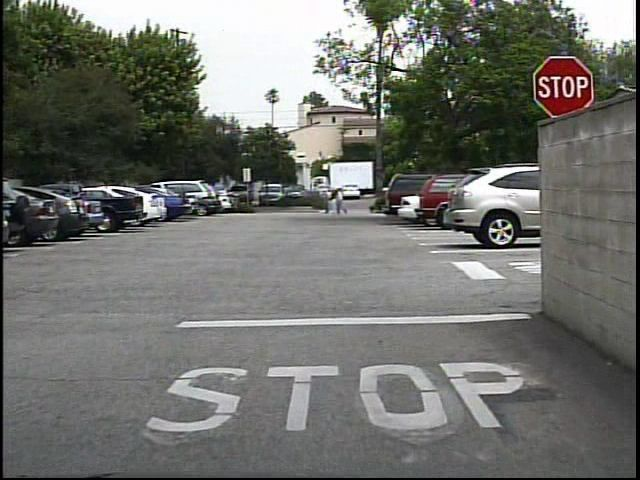person: (335, 188, 353, 218), (320, 186, 335, 216), (336, 187, 337, 217)
